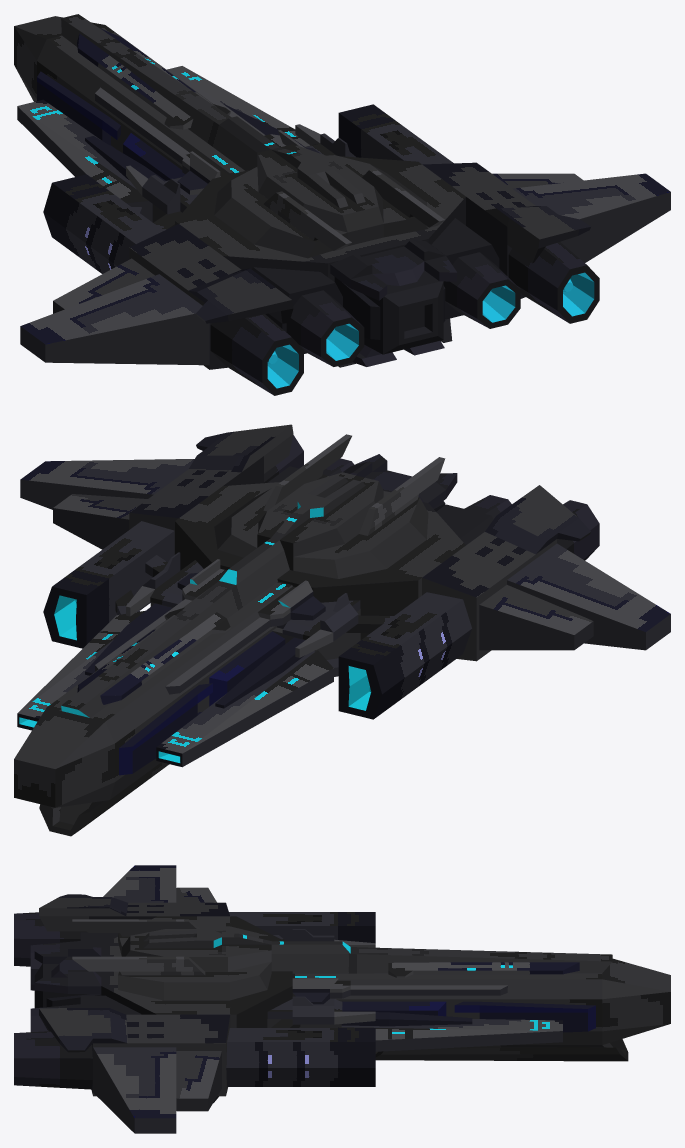
3 renders of one model, top to bottom at view 1: azimuth 30°, elevation 25°; view 2: azimuth 150°, elevation 25°; view 3: azimuth 270°, elevation 25°, orthographic. The views are drawn at different scales.
Visible parts, largest first — view 1: cuboid (×25), cylinder (×6), beveled_cuboid (×3); view 2: cuboid (×25), cylinder (×5), beveled_cuboid (×2), tube; view 3: cuboid (×21), cylinder (×6), beveled_cuboid (×3), tube.
Boxes of the visible parts, x1,y1,x2,y2 form: cuboid (×25): (17,14,670,369); cylinder (×6): (175,144,599,395); beveled_cuboid (×3): (14,16,499,353); cuboid (×25): (17,424,670,775); cylinder (×5): (175,435,599,639); beveled_cuboid (×2): (14,504,493,807); tube: (39,762,169,836); cuboid (×21): (34,865,612,1133); cylinder (×6): (14,912,292,1089); beveled_cuboid (×3): (80,932,670,1044); tube: (375,1039,628,1061).
Bounding box in the file's own units: 4.5 × 1.16 × 4.94.
Materials: 6 (6 with a texture image).
